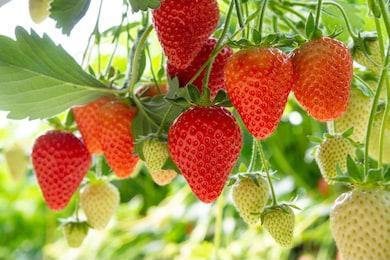Fresa: (165, 97, 247, 206), (221, 40, 296, 143), (289, 34, 356, 125), (28, 125, 95, 214), (151, 1, 221, 72)
